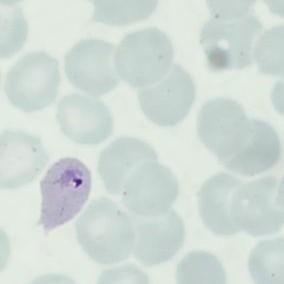Infected: (38, 156, 91, 235)
Uninfected: (195, 13, 264, 71), (75, 199, 137, 260), (135, 64, 192, 126), (225, 175, 281, 238), (116, 27, 173, 88), (130, 204, 184, 267), (198, 95, 249, 161), (101, 135, 159, 193), (8, 50, 60, 111), (64, 38, 116, 98), (121, 161, 178, 215), (218, 123, 277, 173), (55, 94, 112, 143), (0, 127, 44, 189), (198, 176, 240, 237)
